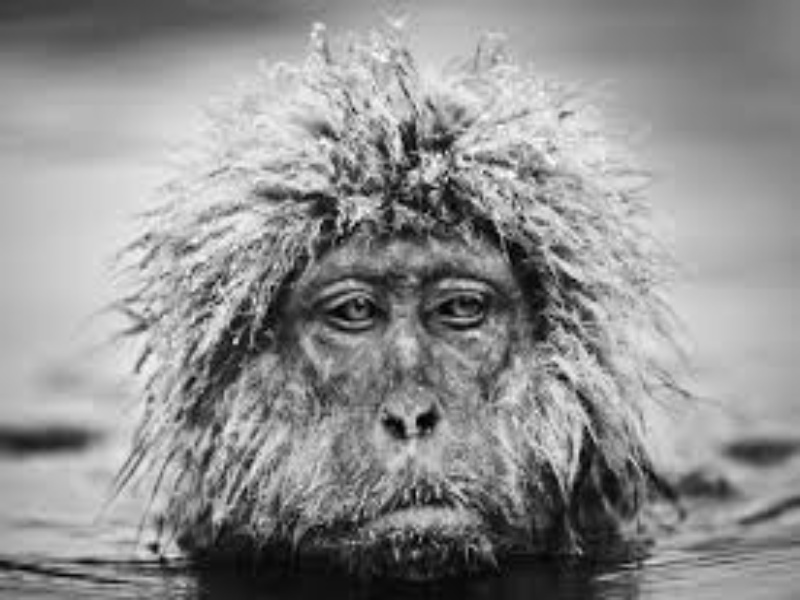monkey: (57, 43, 750, 590)
